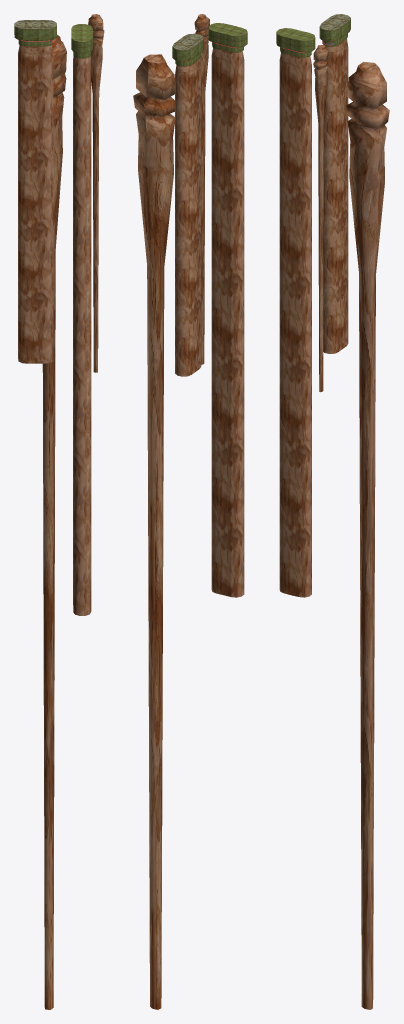
File: Bullet Station 37.fbx
3 renders of one model, left to right at view 1: azimuth 90°, elevation 25°; view 2: azimuth 150°, elevation 25°; view 3: azimuth 330°, elevation 25°, orthographic. The views are drawn at different scales.
Visible parts, largest first — view 1: STG08_ON_23; view 2: STG08_ON_23; view 3: STG08_ON_23.
Boxes of the visible parts, x1,y1,x2,y2 form: STG08_ON_23: [14, 14, 104, 1009]; STG08_ON_23: [133, 14, 247, 1009]; STG08_ON_23: [276, 14, 389, 1009].
Size of the model in its own units: 492382 by 4892409 by 397652.
